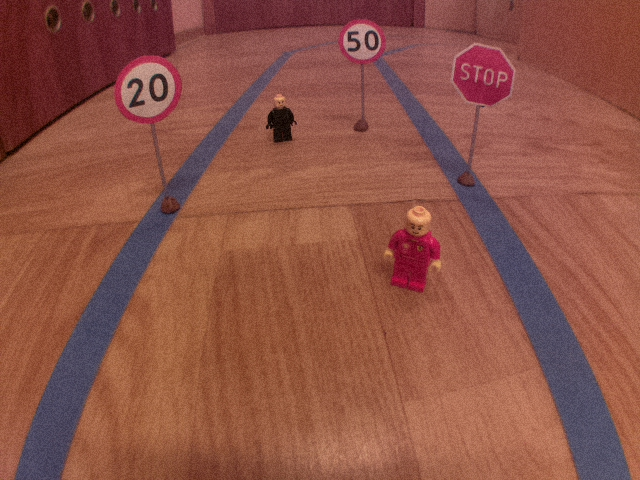LEGO_person: (381, 203, 447, 299), (262, 91, 300, 148)
ogr_20: (113, 53, 184, 126)
ogr_50: (336, 17, 388, 67)
stop: (447, 41, 518, 111)
